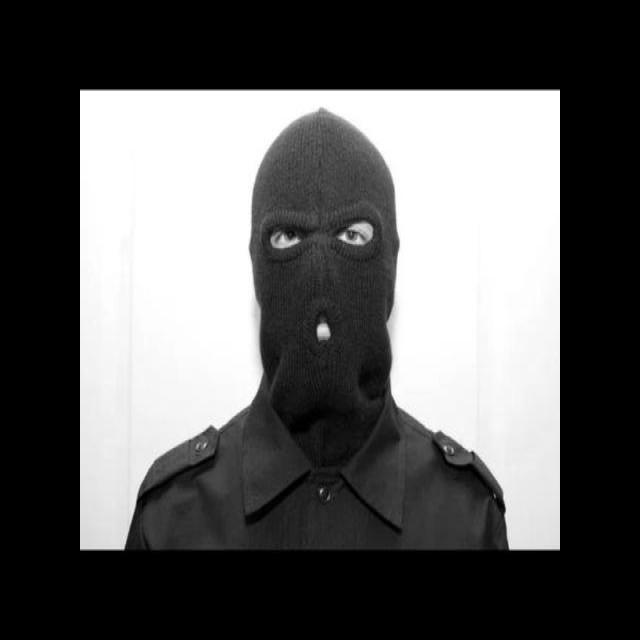6_pasamontana: (248, 112, 402, 467)
